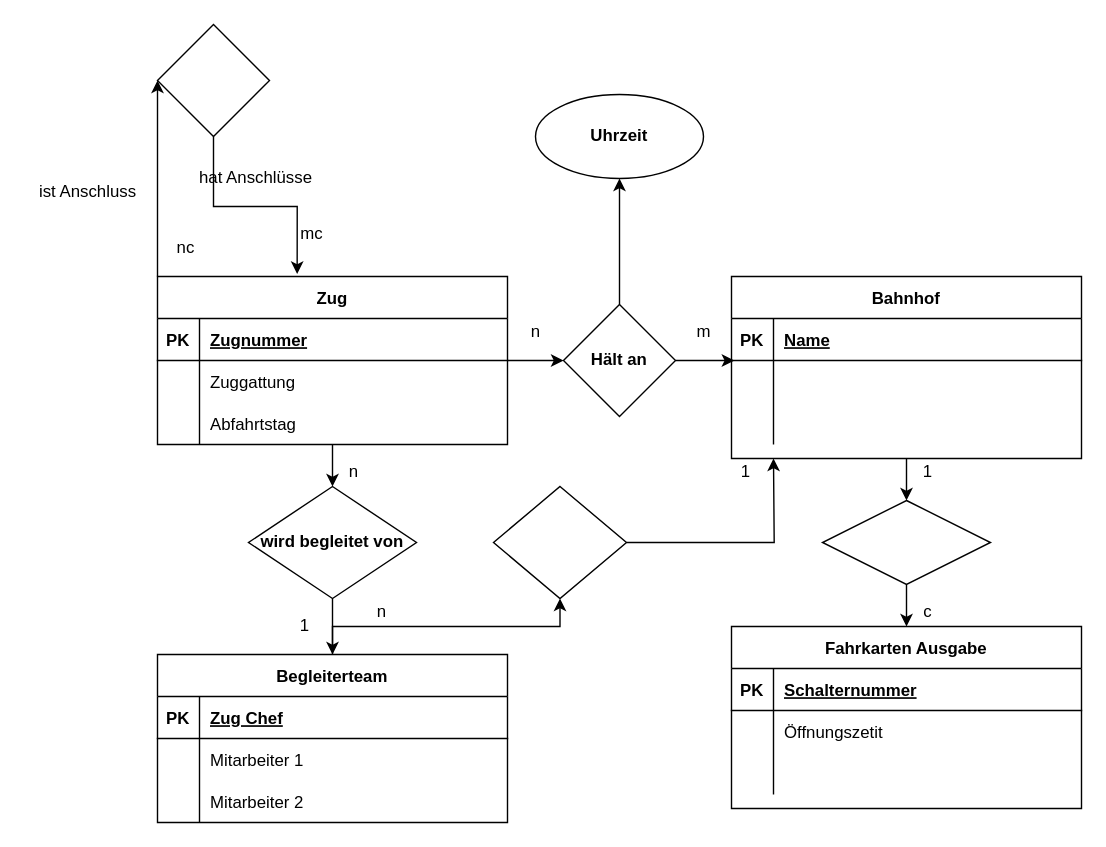
Some shapes in this 1106 by 847 pixel diagram are drawn without their labels. The centre of each missing label's shape, as x and y in pixels:
Anschluss: point 213,79
hat: point 905,541
ist beheimatet in: point 559,541
